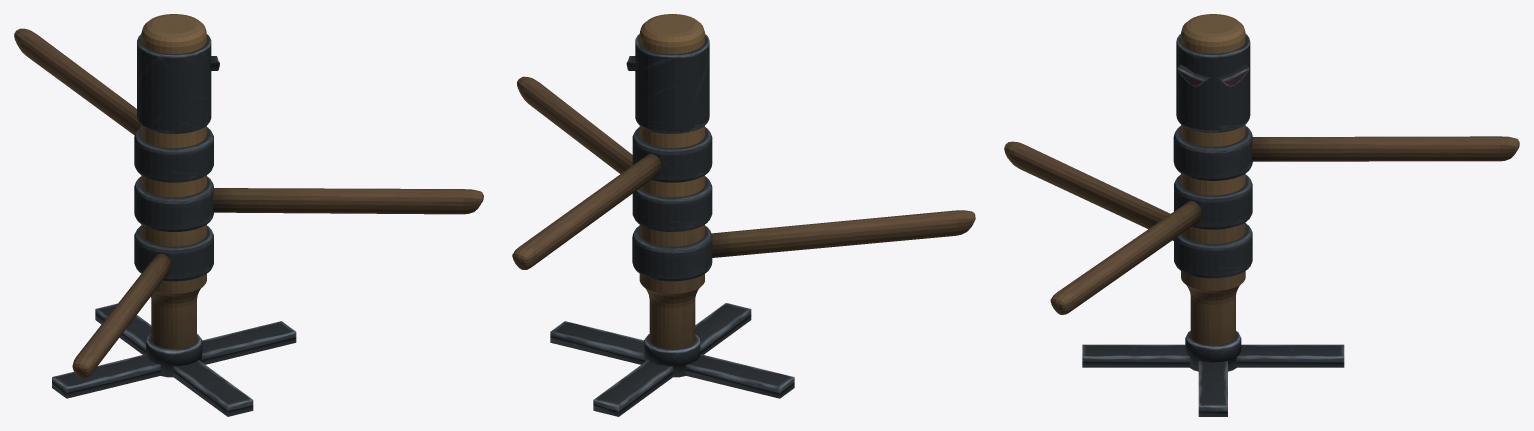
File: SmallTrainingDummy.glb
3 views of the same model, side by side, from view 1: azimuth 30°, elevation 25°; view 2: azimuth 150°, elevation 25°; view 3: azimuth 270°, elevation 25° (orthographic).
Parts seen in each view (by area): view 1: RotatingArm.001, DummyLegs, DummyLog, RotatingArm, Face, RotatingArm.002; view 2: DummyLegs, RotatingArm.002, DummyLog, RotatingArm, Face, RotatingArm.001; view 3: RotatingArm, DummyLog, DummyLegs, RotatingArm.002, RotatingArm.001, Face.
Boxes of the visible parts, box(x1,y1,x2,y2) form: RotatingArm.001: box(134, 176, 483, 231); DummyLegs: box(52, 303, 296, 416); DummyLog: box(141, 14, 206, 348); RotatingArm: box(14, 28, 213, 182); Face: box(137, 34, 219, 133); RotatingArm.002: box(72, 225, 213, 379); DummyLegs: box(550, 303, 794, 416); RotatingArm.002: box(632, 210, 975, 281); DummyLog: box(639, 14, 704, 348); RotatingArm: box(512, 127, 712, 269); Face: box(626, 34, 709, 133); RotatingArm.001: box(517, 76, 712, 231); RotatingArm: box(1173, 126, 1519, 180); DummyLog: box(1181, 14, 1245, 345); DummyLegs: box(1082, 331, 1344, 416); RotatingArm.002: box(1004, 141, 1252, 278); RotatingArm.001: box(1050, 174, 1252, 314); Face: box(1176, 34, 1250, 132).
Size of the model in its own units: 1.7 by 1.28 by 1.77.
Materials: 4 (4 with a texture image).
